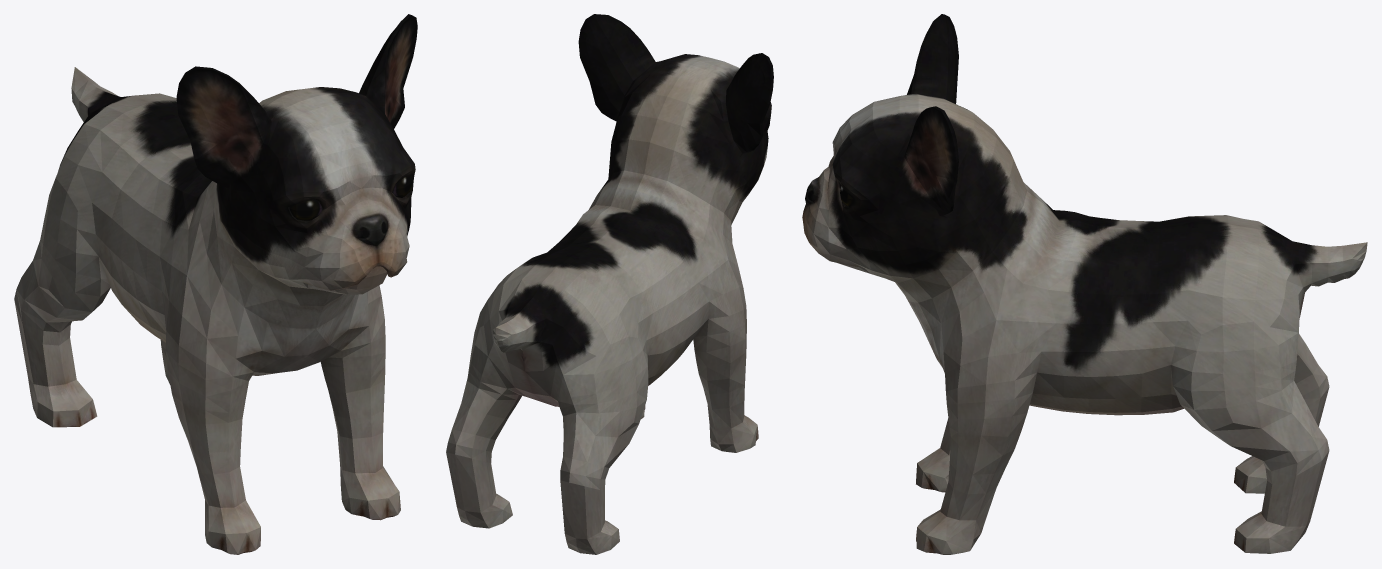
The model's file is dog.gltf.
3 views of the same model, side by side, from view 1: azimuth 30°, elevation 25°; view 2: azimuth 150°, elevation 25°; view 3: azimuth 270°, elevation 25° (orthographic). The views are drawn at different scales.
Bounding box in the file's own units: 1.14 × 2.23 × 2.5.
Materials: 1 (1 with a texture image).
